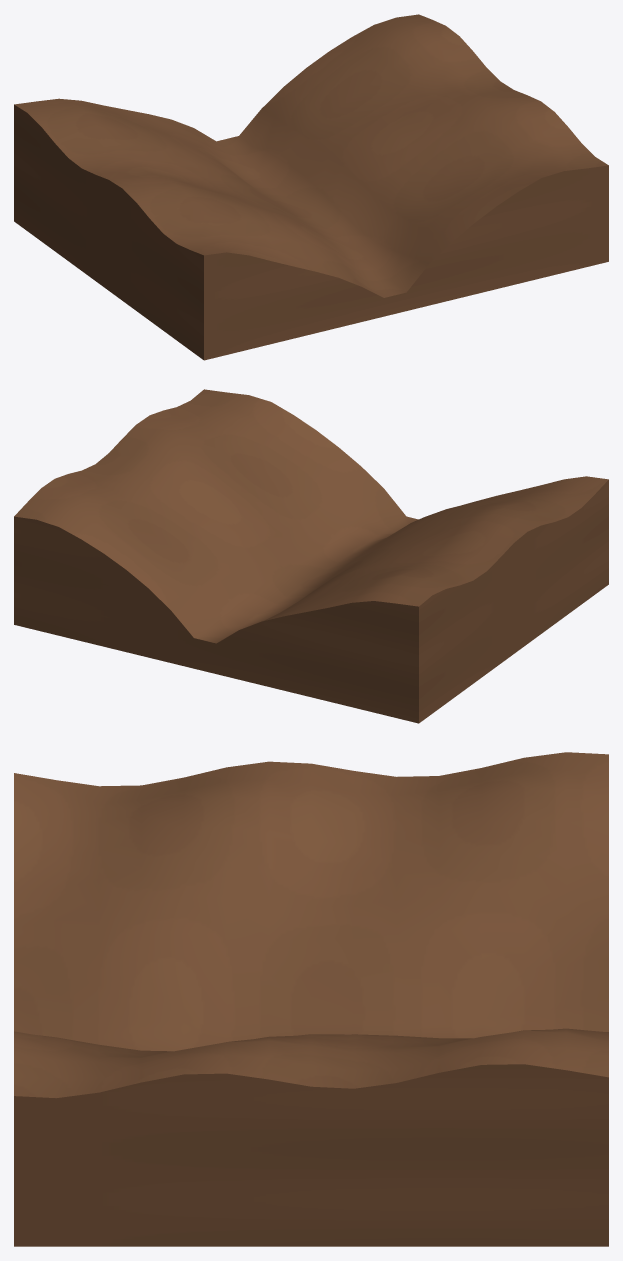
Rendered from ota.glb.
The picture shows the model from 3 angles, top to bottom: view 1: azimuth 30°, elevation 25°; view 2: azimuth 150°, elevation 25°; view 3: azimuth 270°, elevation 25°; orthographic projection. The views are drawn at different scales.
Visible parts, largest first — view 1: ota; view 2: ota; view 3: ota.
Part boxes in pixels (x1,y1,x2,y2): ota: (14, 14, 608, 360); ota: (14, 389, 608, 723); ota: (14, 752, 608, 1246).
Size of the model in its own units: 6.44 by 1.8 by 5.24.
Materials: 1 (1 with a texture image).
